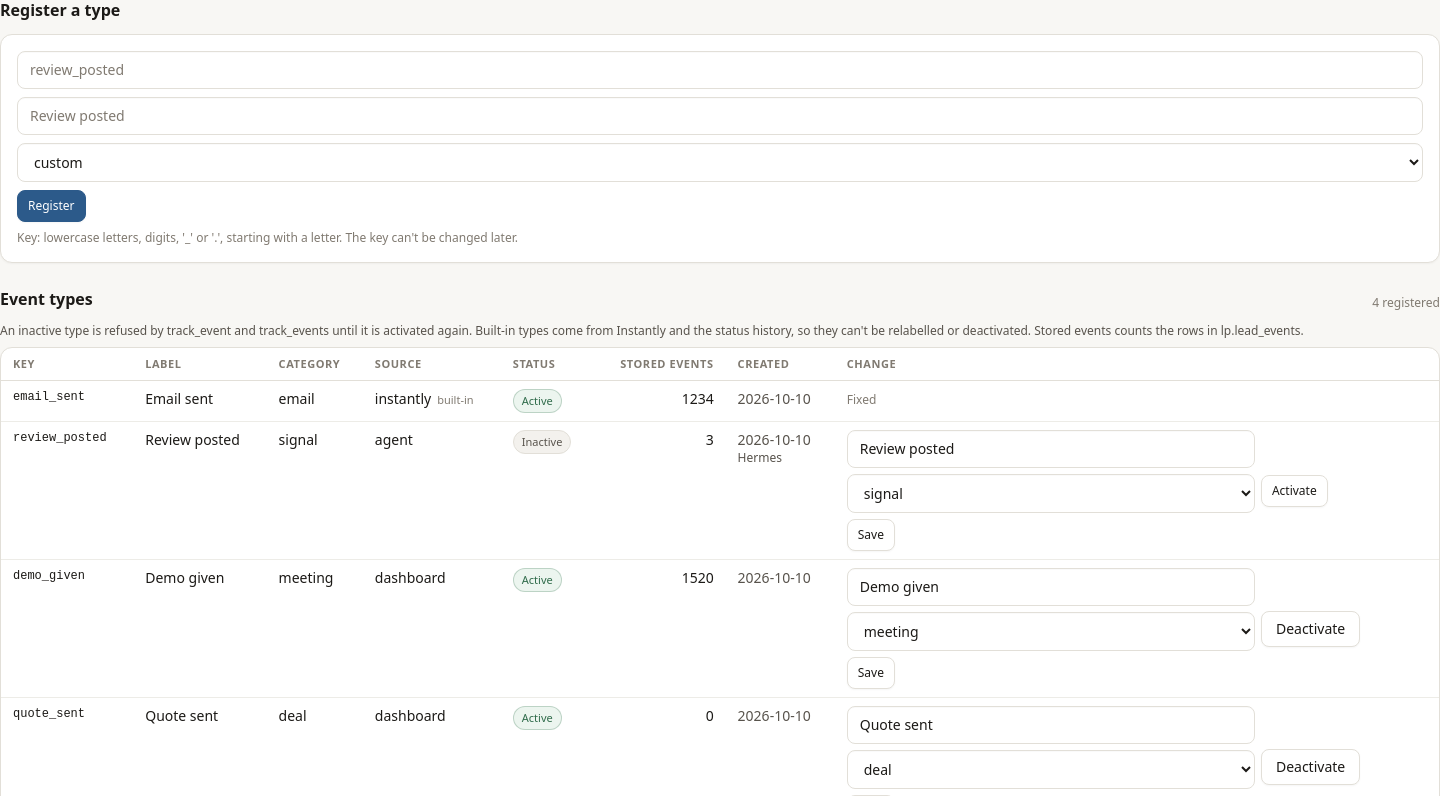
EventTypesSection › a type with no stored events still gets a confirm, with the plainer copy
Click the 2nd button "Deactivate": (1311, 766) [1261,748,1360,784]
(page scrolled)
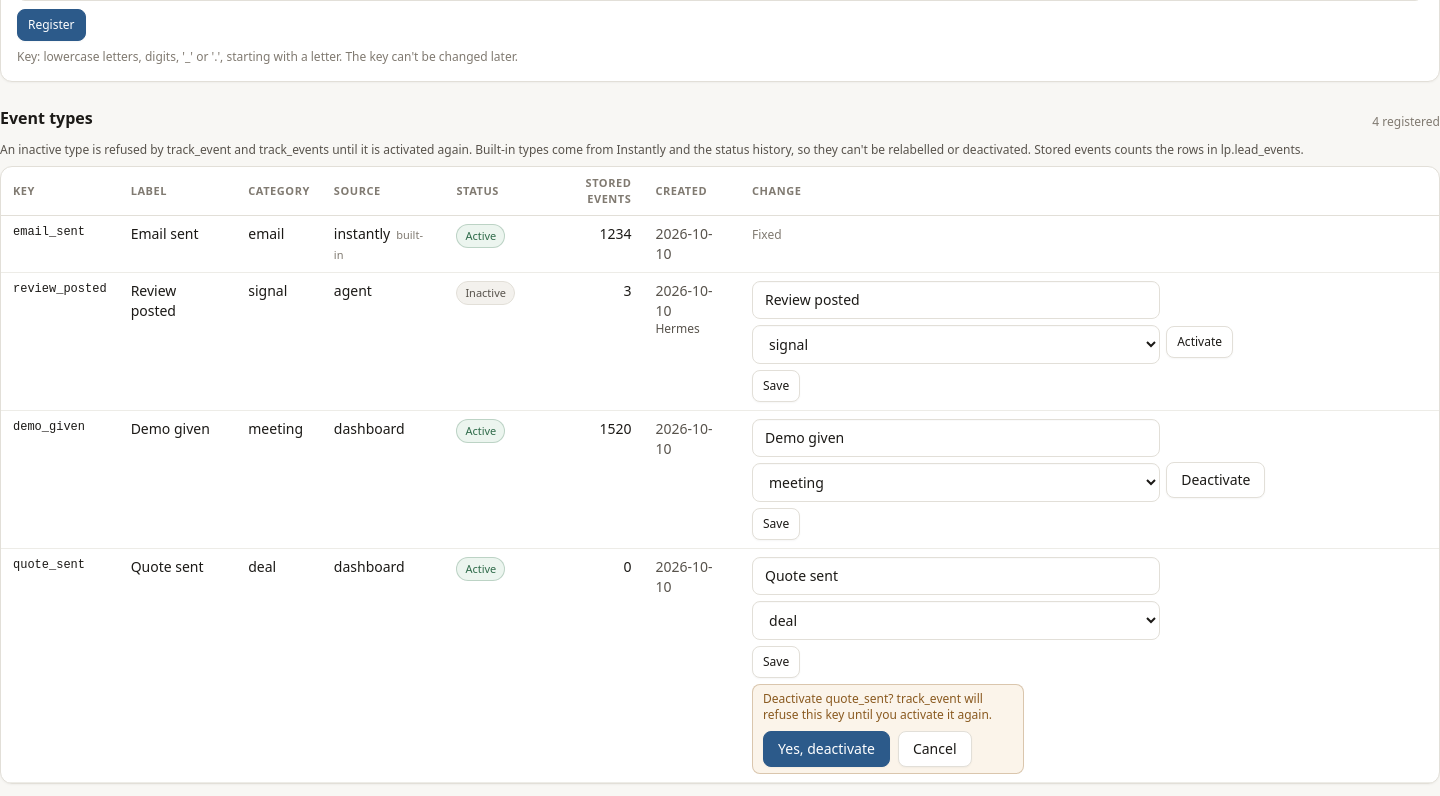
Expected: the text "Deactivate quote_sent? track_event will refuse this key until you activate it again." is shown, [763,690,992,723]
